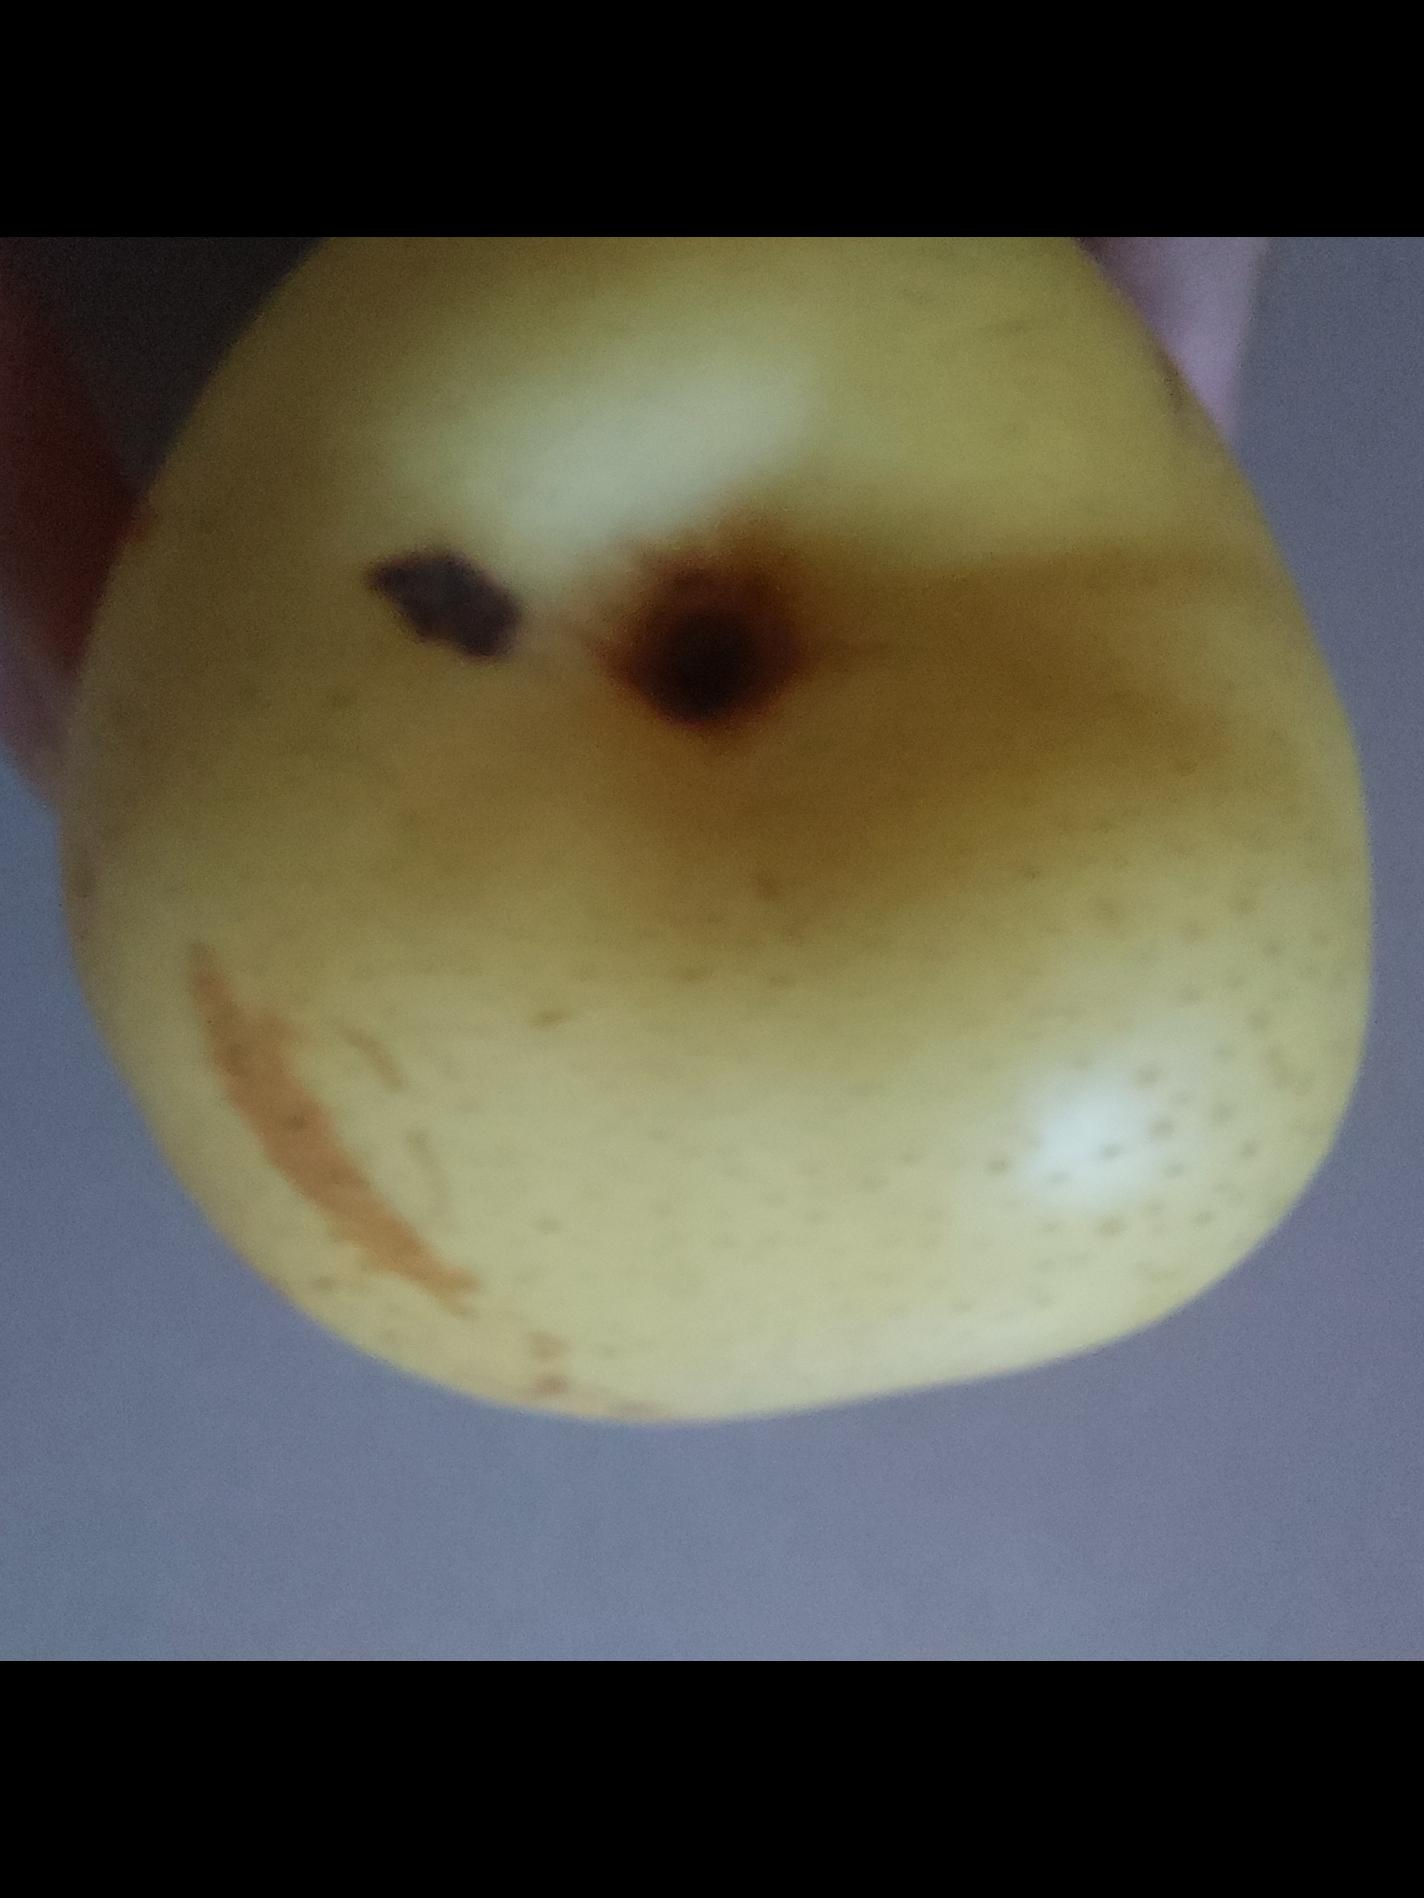Good Pear: (58, 236, 1367, 1431)
